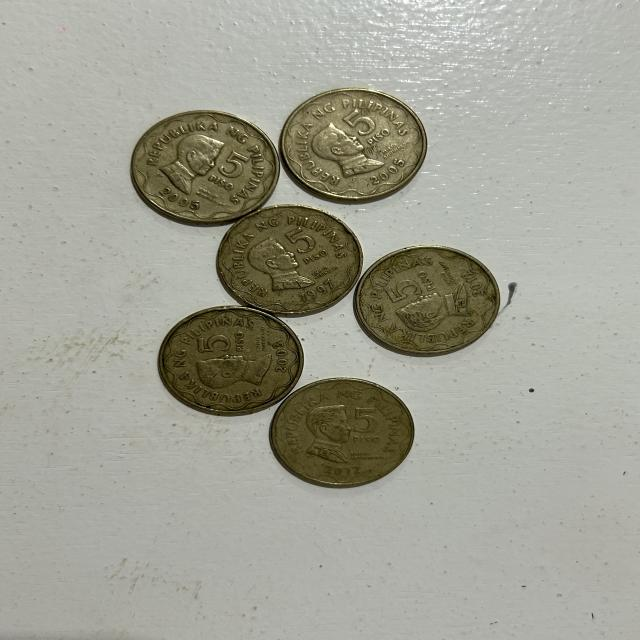5_Old_Front: (334, 108, 401, 160), (277, 228, 334, 273), (194, 331, 260, 364), (204, 146, 257, 186), (387, 268, 443, 304), (352, 404, 386, 450)
